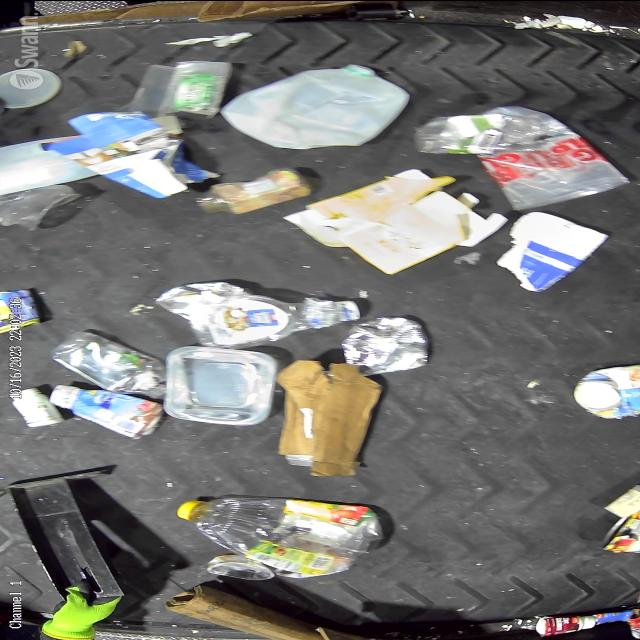can: (342, 315, 430, 375), (570, 361, 640, 419), (154, 280, 250, 320), (0, 288, 45, 334), (599, 510, 640, 554)
milk_jug: (218, 62, 413, 150), (0, 134, 101, 194)
plastic_bottle: (173, 495, 387, 574), (192, 292, 362, 348)
